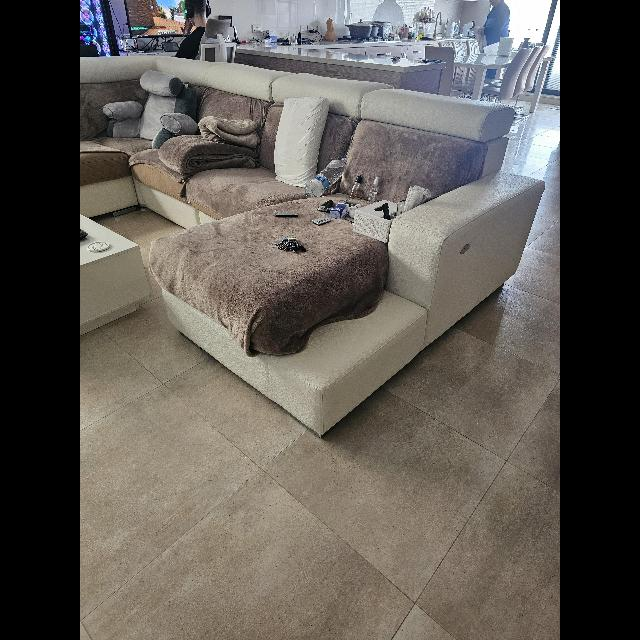Keys: (272, 238, 304, 252)
